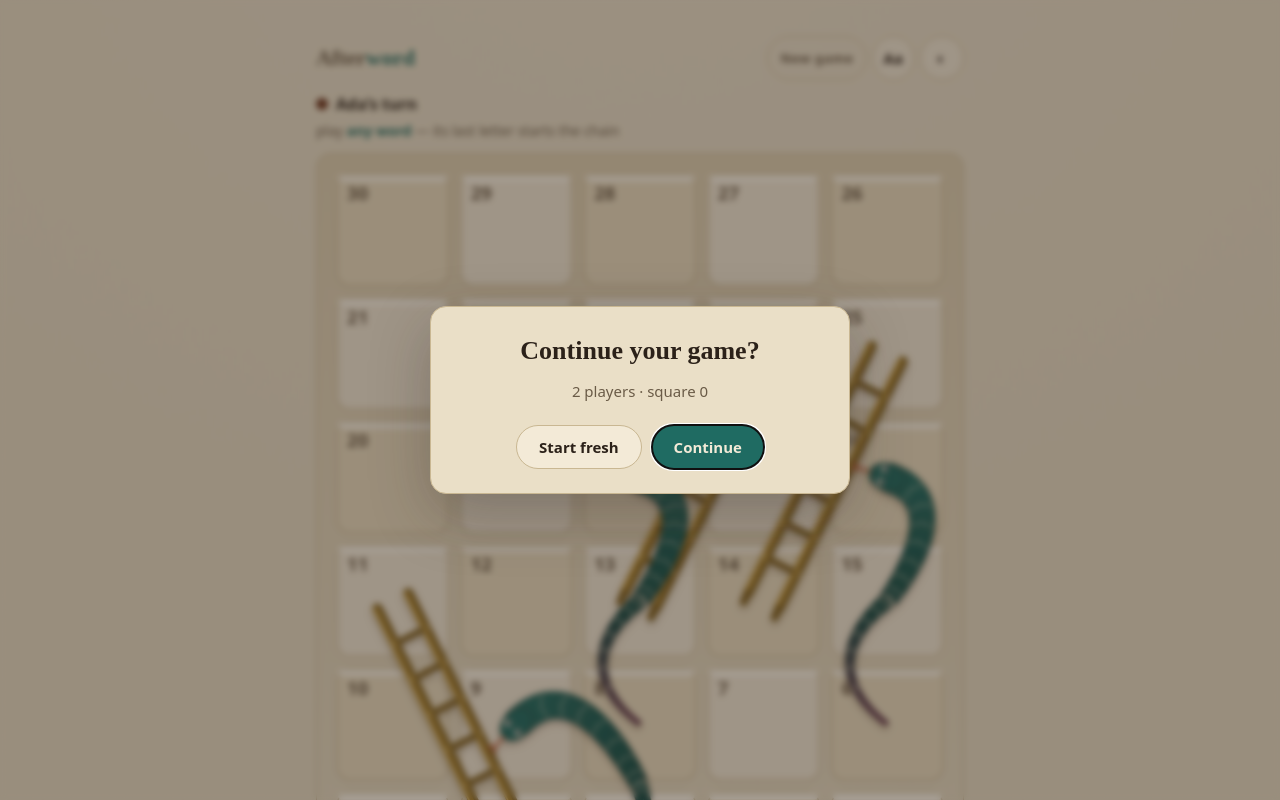
App › shows the resume prompt when rehydrated into a play game; Continue reveals the board
Expected: the heading "Continue your game?" is shown, [520, 336, 760, 365]
Click the button "Continue". click: (708, 447)
box: [652, 425, 764, 469]
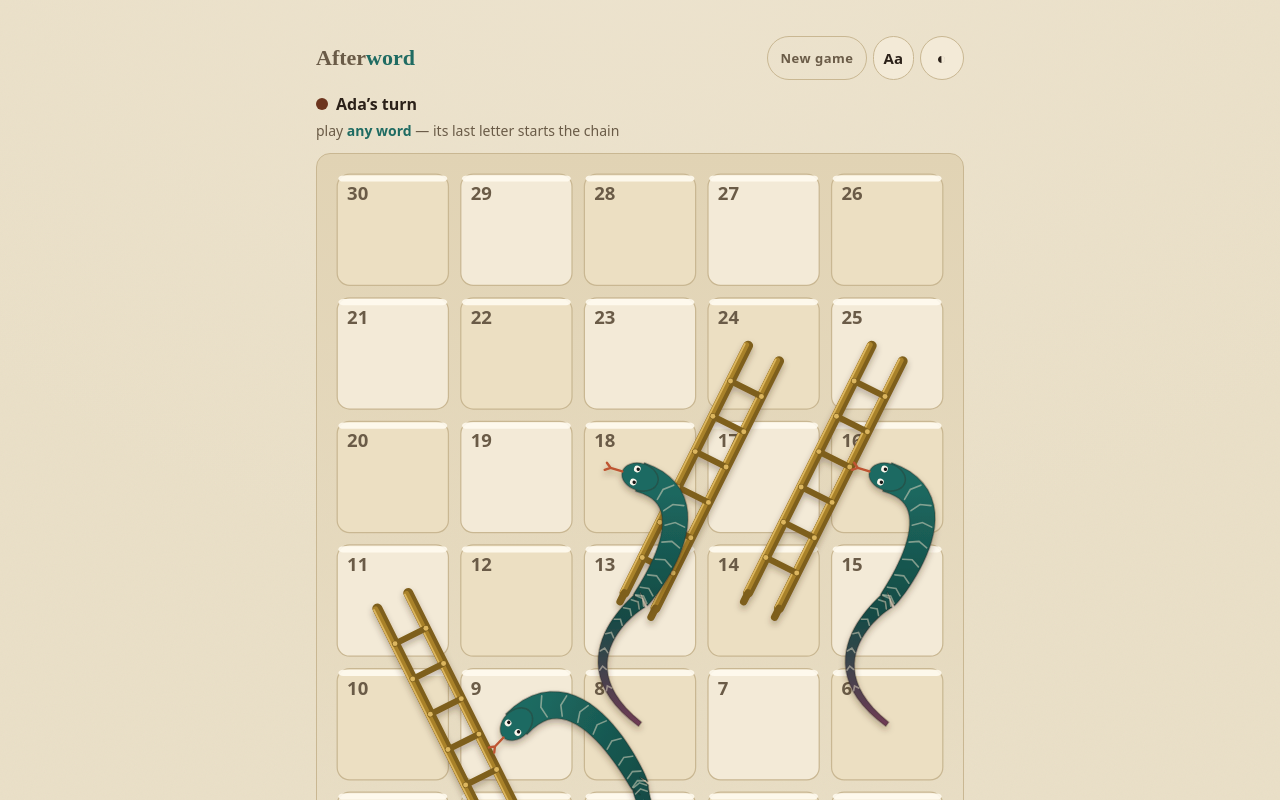
Result: the heading "Continue your game?" is gone
